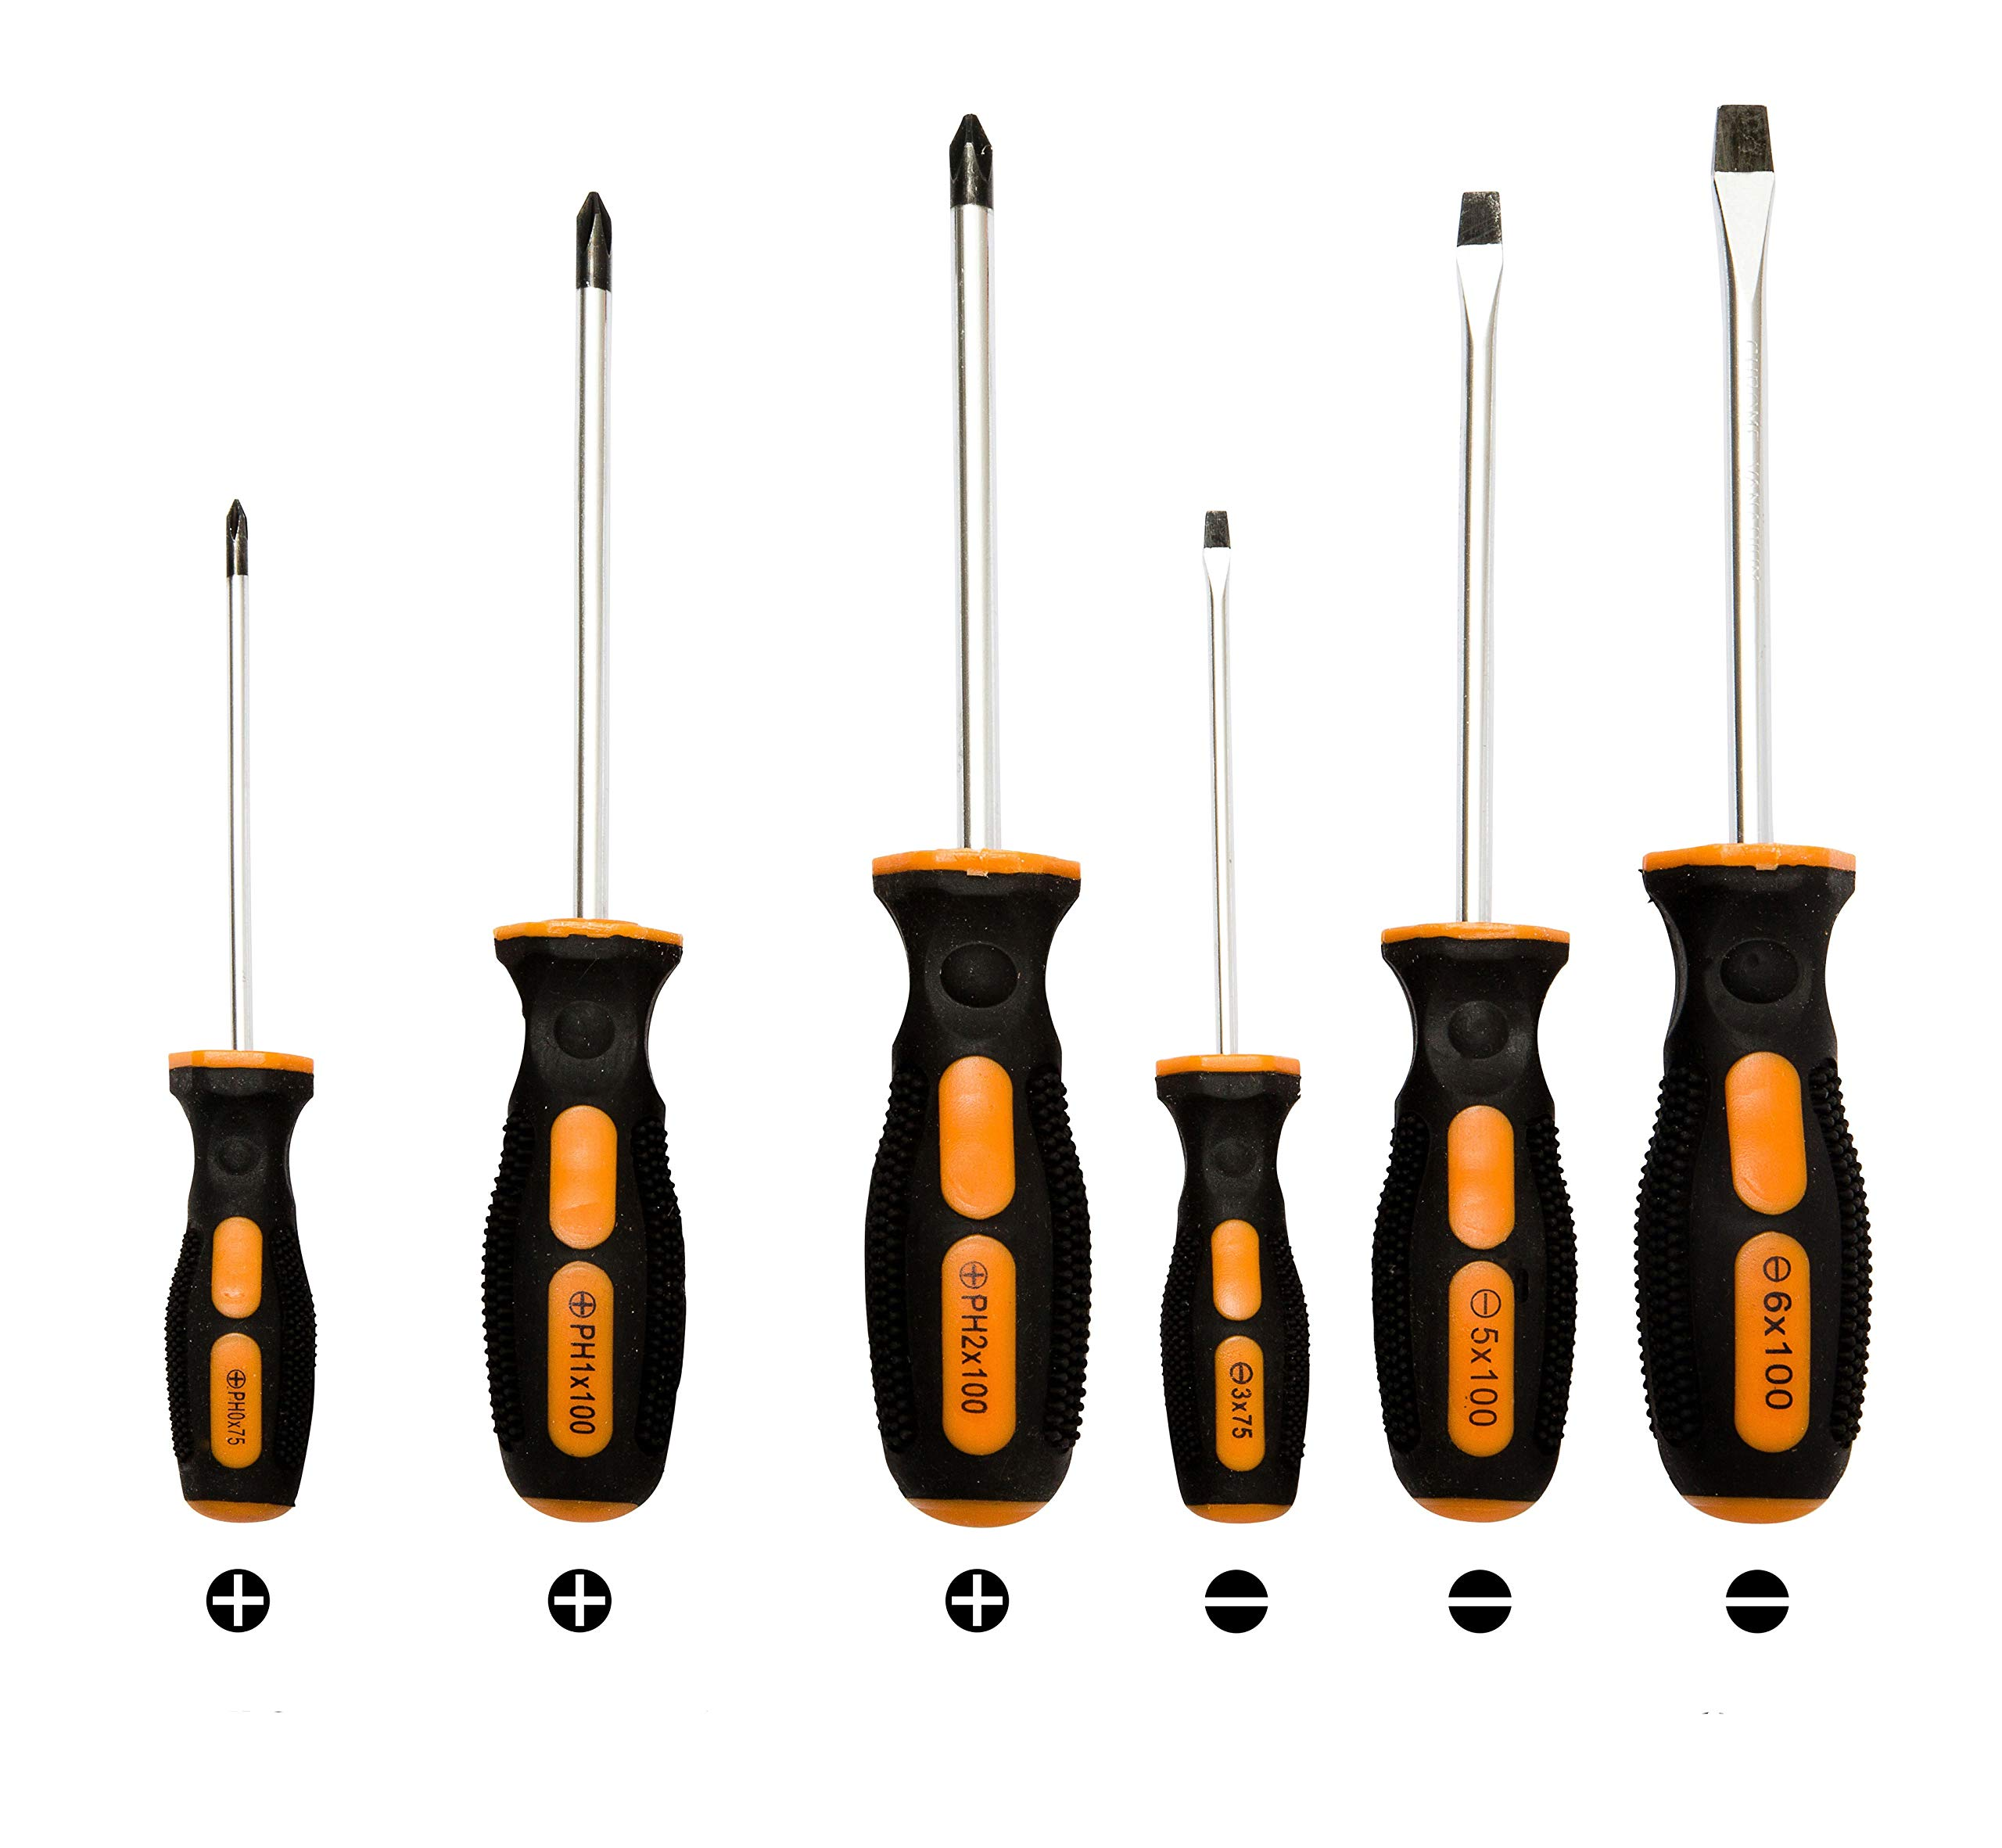screwdriver: (1634, 110, 1875, 1524), (858, 113, 1093, 1527), (1369, 190, 1580, 1525), (478, 197, 689, 1520), (164, 500, 323, 1520), (1158, 516, 1317, 1527)
